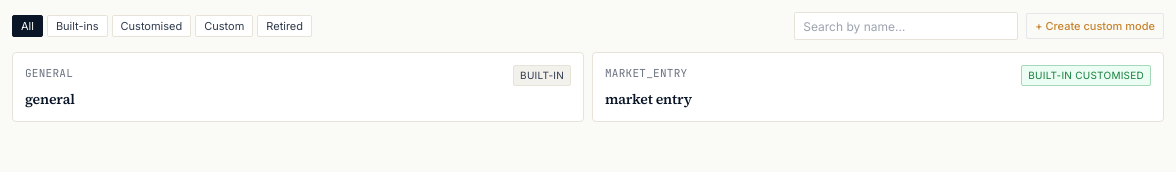
Test: ModeList › filters cards by state via the state-filter tabs
The width and height of the screenshot is (1176, 172).
Expected: the button with test id "mode-card-general" is shown, [12, 52, 584, 122]
Note: Click "Customised" filter.
Step 1. Click the tab "Customised" → (151, 26), box [112, 15, 191, 37]
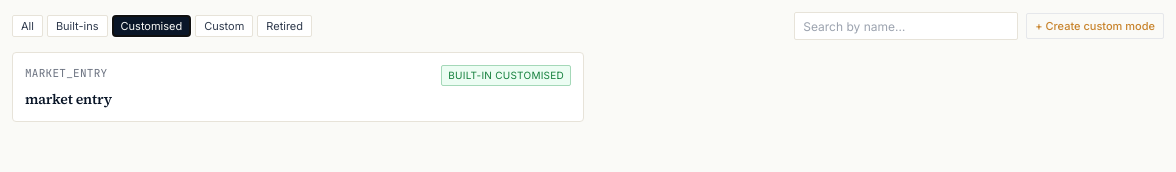
Expected: the button with test id "mode-card-market_entry" is shown, [12, 52, 584, 122]
Expected: the button with test id "mode-card-general" is gone
